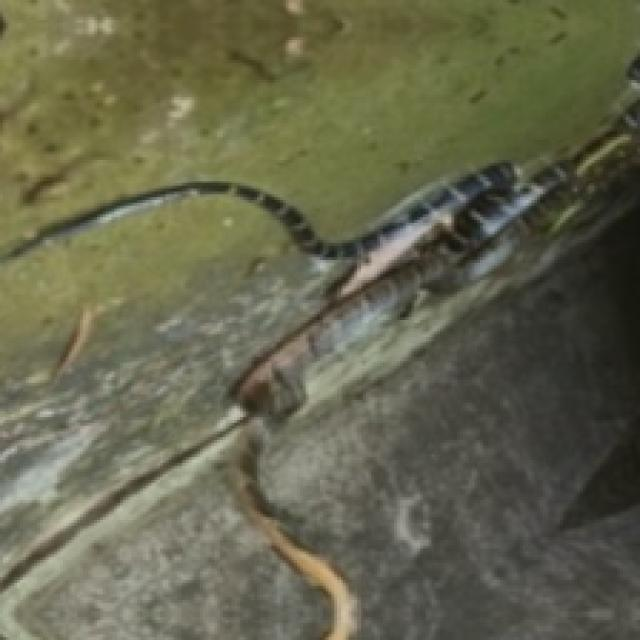king cobra: (0, 0, 637, 254), (0, 194, 346, 637), (291, 363, 637, 637)
